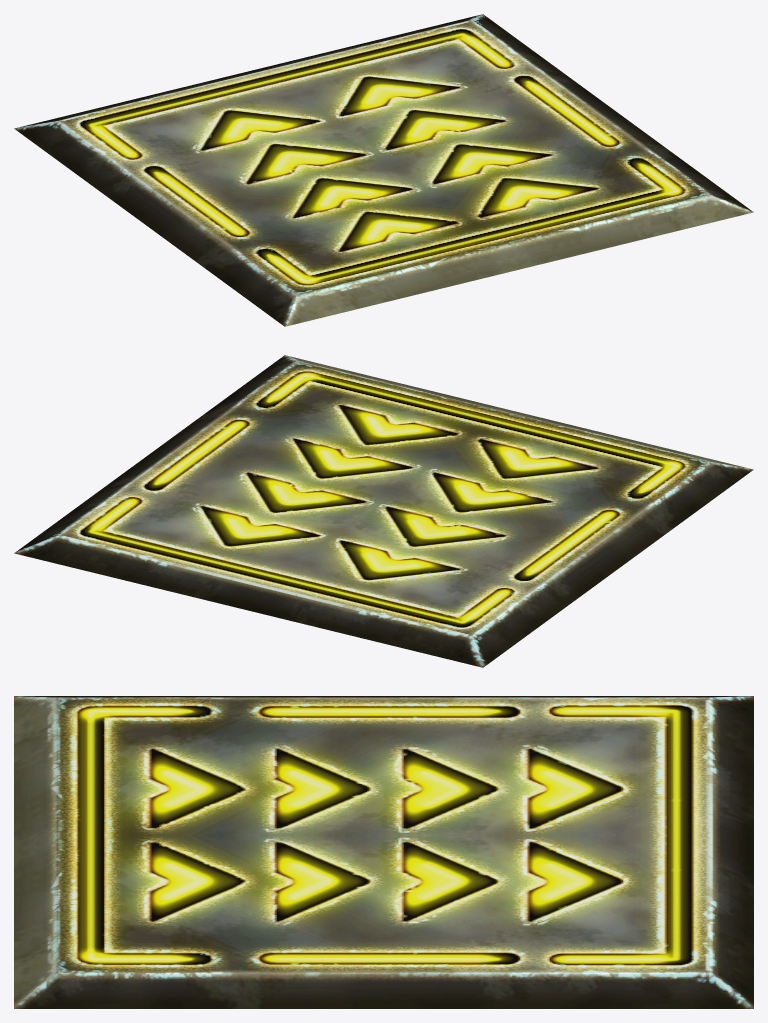
The model's file is track_all_game_speed_01a.fbx.
3 renders of one model, top to bottom at view 1: azimuth 30°, elevation 25°; view 2: azimuth 150°, elevation 25°; view 3: azimuth 270°, elevation 25°, orthographic. The views are drawn at different scales.
Parts seen in each view (by area): view 1: track_all_game_speed_01a; view 2: track_all_game_speed_01a; view 3: track_all_game_speed_01a.
Boxes of the visible parts, <box> form: track_all_game_speed_01a: <box>14,14,753,326</box>; track_all_game_speed_01a: <box>14,355,753,667</box>; track_all_game_speed_01a: <box>14,696,753,1008</box>.
Size of the model in its own units: 5.68 by 0.1457 by 5.68.
